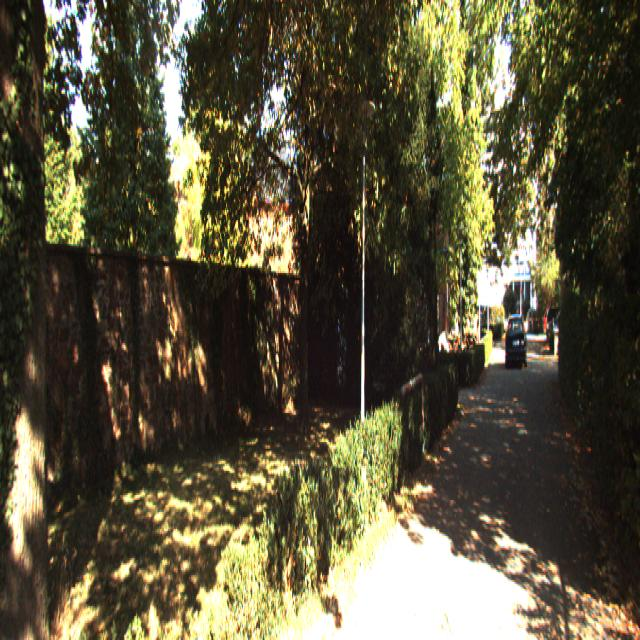Car: (506, 310, 527, 367)
DontCare: (542, 301, 564, 359)
